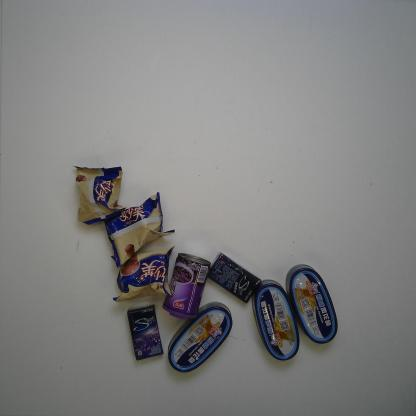Canned Food: (166, 300, 234, 373), (284, 262, 340, 346), (251, 280, 300, 360), (161, 252, 213, 322)
Dessert: (100, 190, 178, 270), (108, 245, 175, 304), (71, 164, 127, 228)
Gum: (206, 251, 264, 303), (126, 303, 164, 362)
